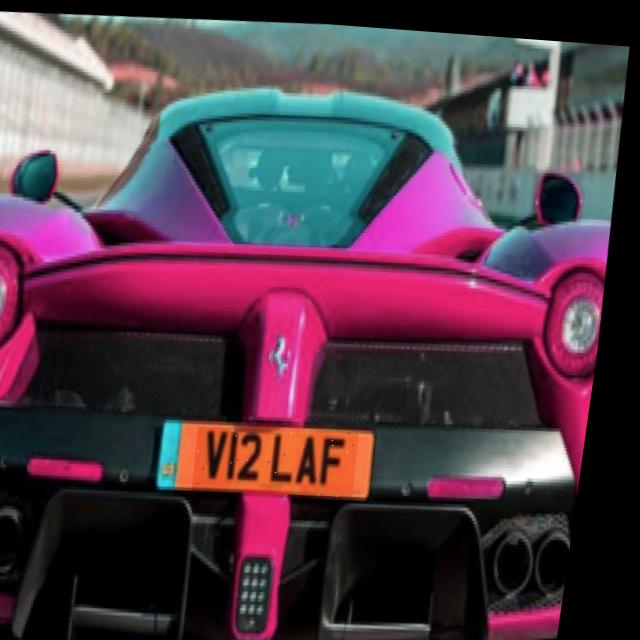license_plate: (203, 417, 372, 495)
